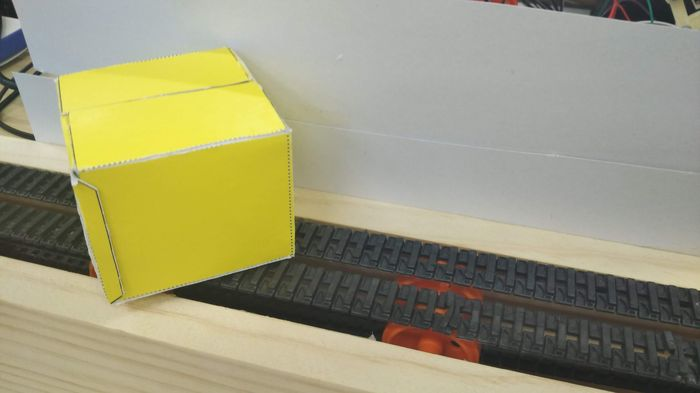box4: (49, 42, 299, 309)
